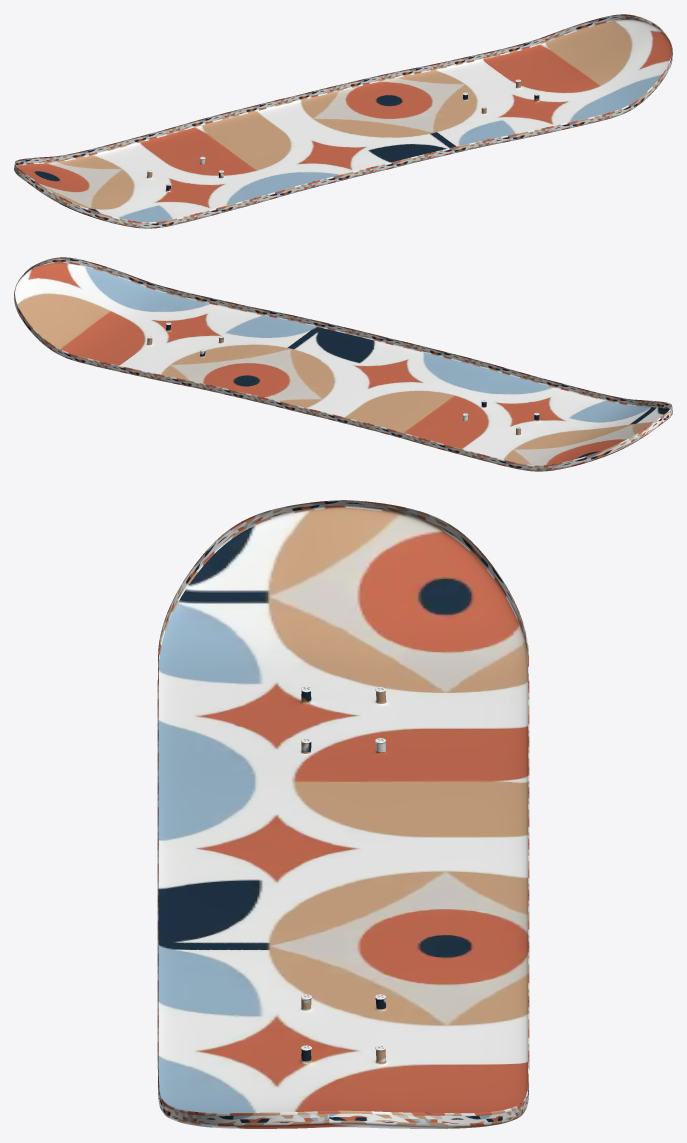
Rendered from deck.glb.
3 views of the same model, one above another, from view 1: azimuth 30°, elevation 25°; view 2: azimuth 150°, elevation 25°; view 3: azimuth 270°, elevation 25° (orthographic). The views are drawn at different scales.
Parts seen in each view (by area): view 1: Skateboard; view 2: Skateboard; view 3: Skateboard.
Part boxes in pixels (x1=…): Skateboard: x1=14, y1=14, x2=672, y2=228; Skateboard: x1=14, y1=257, x2=672, y2=471; Skateboard: x1=157, y1=500, x2=529, y2=1128.
Size of the model in its own units: 8.63 by 0.5293 by 2.2.
Materials: 2 (1 with a texture image).
